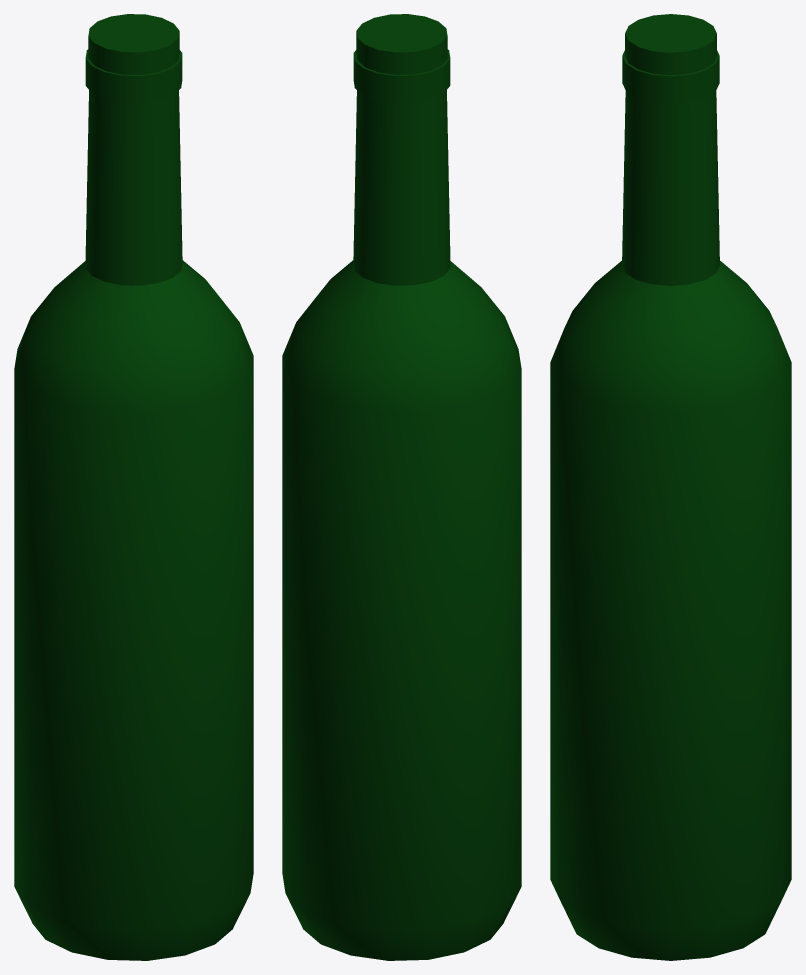
Rendered from bottle.gltf.
3 renders of one model, left to right at view 1: azimuth 30°, elevation 25°; view 2: azimuth 150°, elevation 25°; view 3: azimuth 270°, elevation 25°, orthographic.
Visible parts, largest first — view 1: bottle; view 2: bottle; view 3: bottle.
Part boxes in pixels (x1,y1,x2,y2): bottle: [14, 14, 253, 960]; bottle: [282, 14, 521, 960]; bottle: [550, 14, 791, 960].
Bounding box in the file's own units: 0.0835 × 0.3379 × 0.0835.
